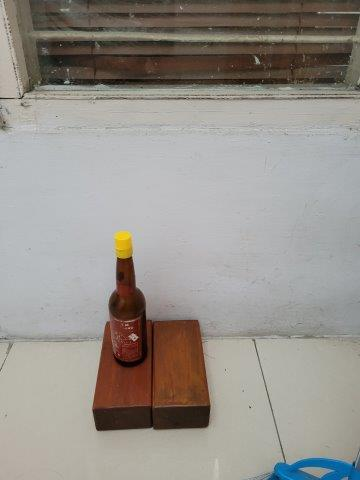botolkaca: (110, 234, 148, 364)
